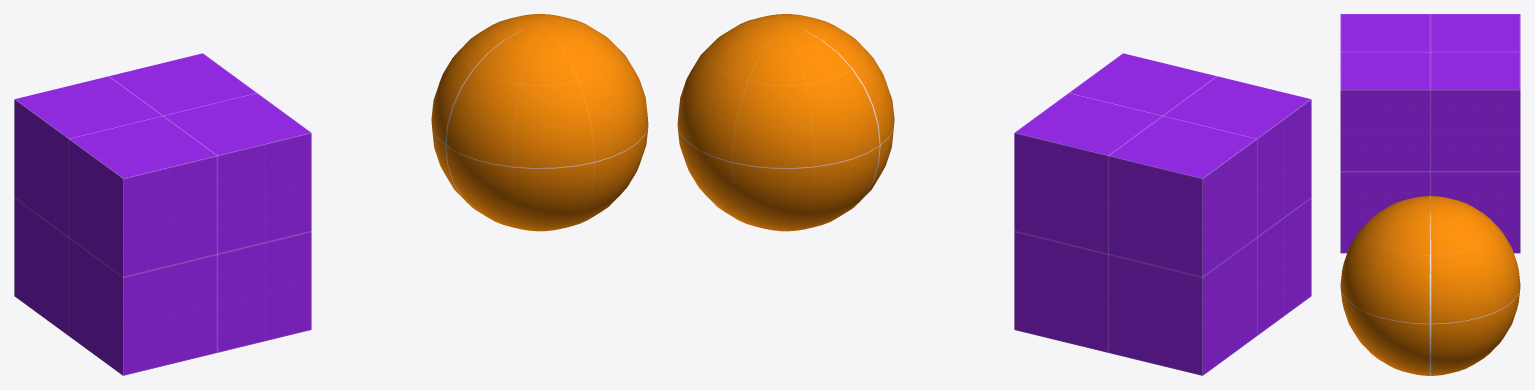
The model's file is NeptuneResources.glb.
3 views of the same model, side by side, from view 1: azimuth 30°, elevation 25°; view 2: azimuth 150°, elevation 25°; view 3: azimuth 270°, elevation 25° (orthographic). The views are drawn at different scales.
Parts seen in each view (by area): view 1: Cube, Sphere; view 2: Cube, Sphere; view 3: Cube, Sphere.
Part boxes in pixels (bbox=[...]): Cube: bbox=[14, 53, 311, 375]; Sphere: bbox=[431, 14, 648, 231]; Cube: bbox=[1014, 53, 1311, 375]; Sphere: bbox=[677, 14, 894, 231]; Cube: bbox=[1340, 14, 1520, 253]; Sphere: bbox=[1340, 196, 1520, 375].
Bounding box in the file's own units: 6 × 2 × 2.
Materials: 2 (2 with a texture image).
